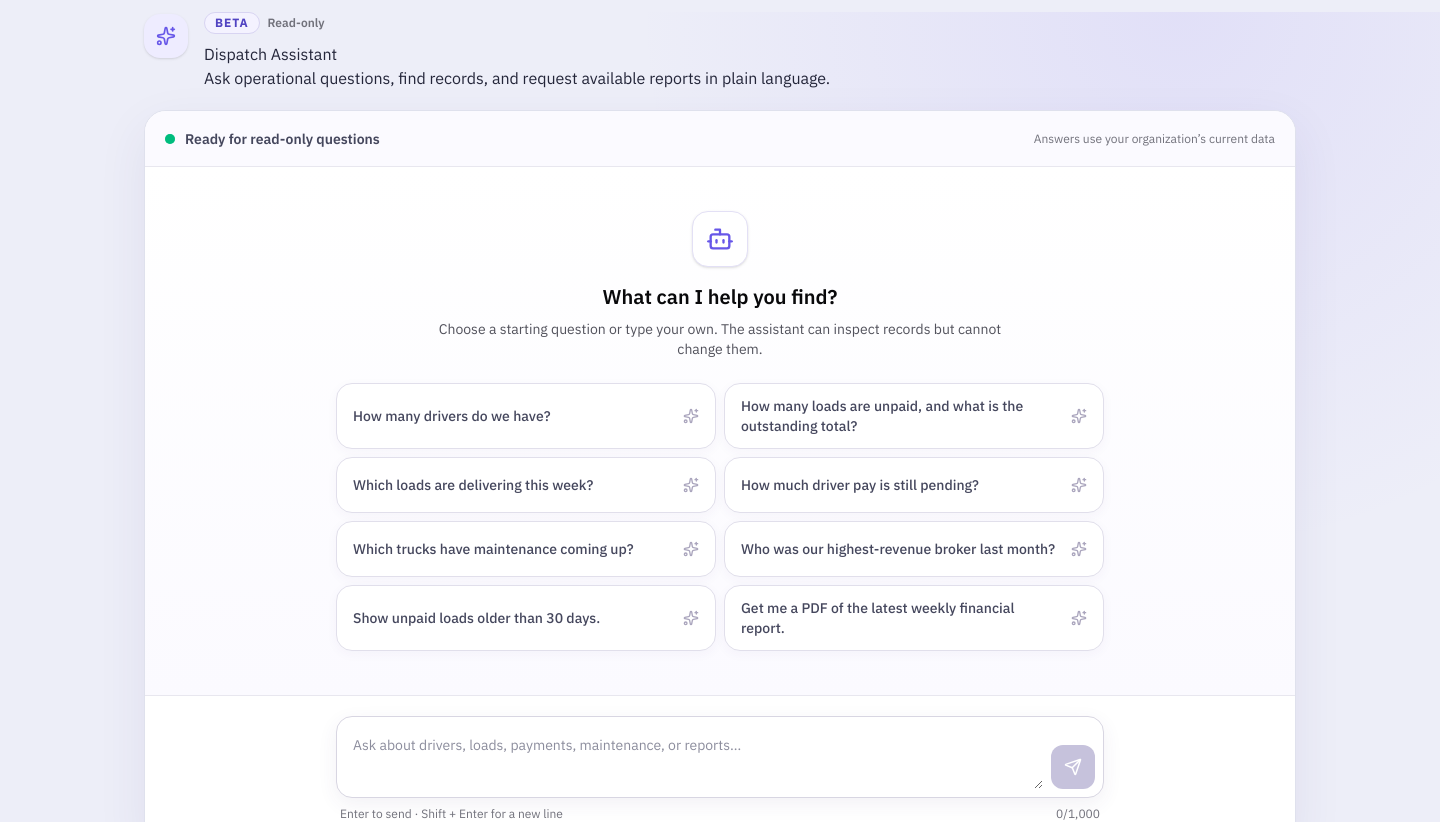
Test: DispatchAssistant › does not offer an immediate retry for a 400 invalid_request response
Click the button "How many drivers do we have?".
click(526, 416)  # box [336,383,716,449]
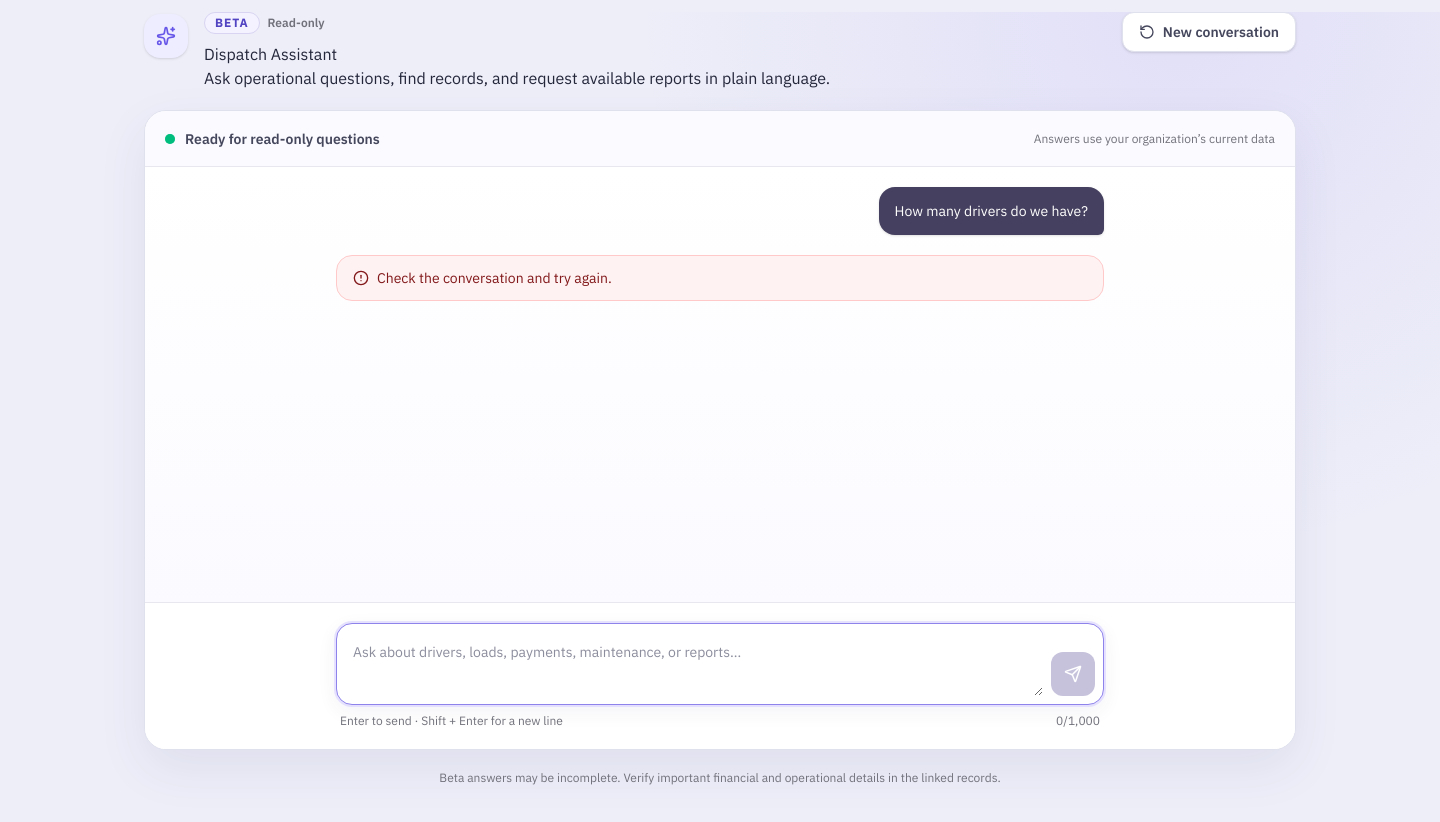
expect the text "Check the conversation and try again." is shown: met, box [377,268,612,288]
